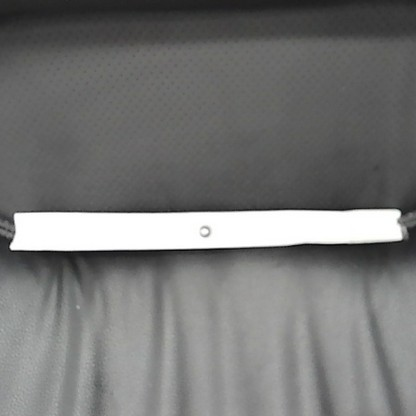ironball: (194, 221, 213, 239)
